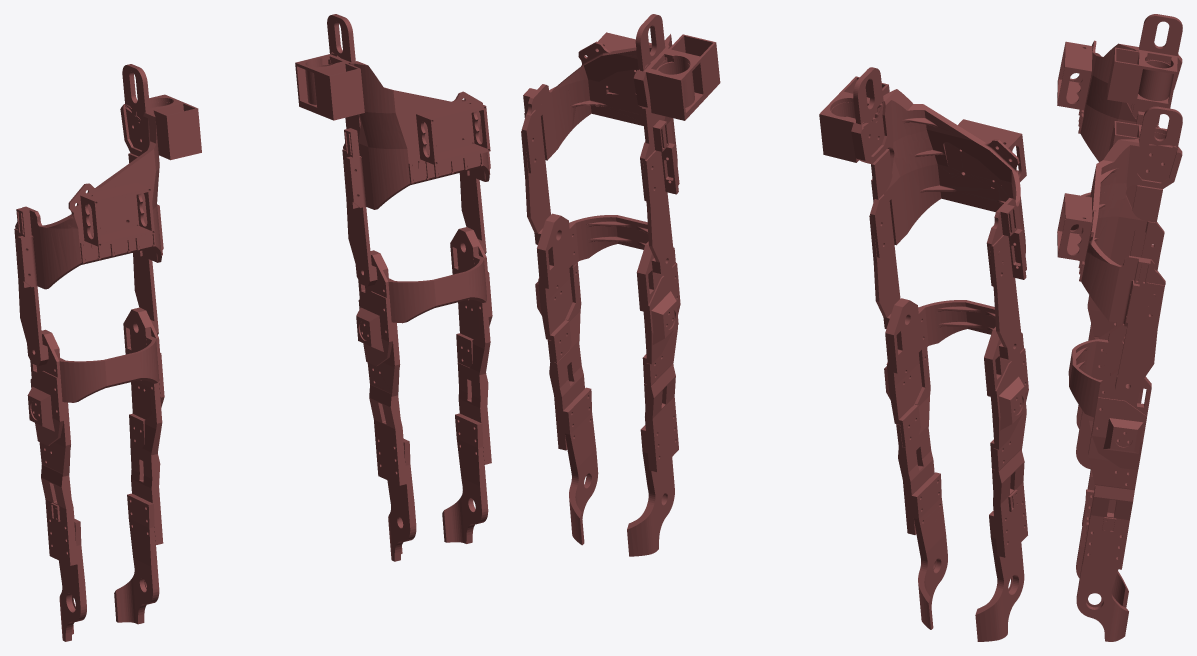
The model's file is exo_v2.glb.
3 views of the same model, side by side, from view 1: azimuth 30°, elevation 25°; view 2: azimuth 150°, elevation 25°; view 3: azimuth 270°, elevation 25° (orthographic). The views are drawn at different scales.
Visible parts, largest first — view 1: Mesh_Mesh_head_geo.001_lambert2SG.001; view 2: Mesh_Mesh_head_geo.001_lambert2SG.001; view 3: Mesh_Mesh_head_geo.001_lambert2SG.001.
Boxes of the visible parts, x1=… form: Mesh_Mesh_head_geo.001_lambert2SG.001: x1=14, y1=14, x2=492, y2=641; Mesh_Mesh_head_geo.001_lambert2SG.001: x1=521, y1=14, x2=1028, y2=641; Mesh_Mesh_head_geo.001_lambert2SG.001: x1=1057, y1=14, x2=1182, y2=641.
Bounding box in the file's own units: 0.2638 × 0.2875 × 0.0667.
